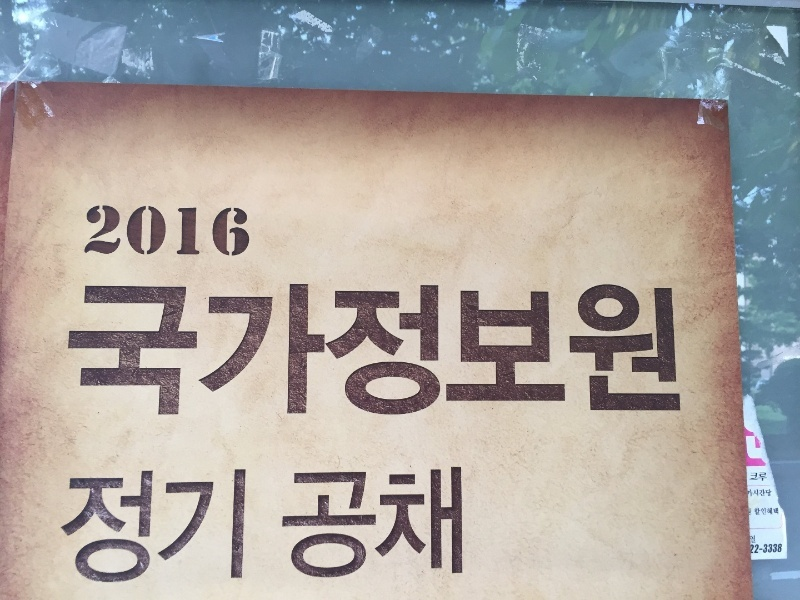text: (65, 279, 80, 422), (81, 279, 96, 422), (97, 279, 112, 422), (113, 279, 128, 422), (129, 279, 144, 422), (145, 279, 160, 422), (161, 279, 176, 422), (177, 279, 192, 422), (193, 279, 208, 422), (209, 279, 224, 422), (225, 279, 240, 422), (241, 279, 256, 422), (257, 279, 272, 422), (273, 279, 288, 422), (289, 279, 304, 422), (305, 279, 320, 422), (321, 279, 336, 422), (337, 279, 352, 422), (353, 279, 368, 422), (369, 279, 384, 422), (385, 279, 400, 422), (401, 279, 416, 422), (417, 279, 432, 422), (433, 279, 448, 422), (449, 279, 464, 422), (465, 279, 480, 422), (481, 279, 496, 422), (497, 279, 512, 422), (513, 279, 528, 422), (529, 279, 544, 422), (545, 279, 560, 422), (561, 279, 576, 422), (577, 279, 592, 422), (593, 279, 608, 422), (609, 279, 624, 422), (625, 279, 640, 422), (641, 279, 656, 422), (657, 279, 672, 422), (65, 469, 80, 588), (81, 469, 96, 588), (97, 469, 112, 588), (113, 469, 128, 588), (129, 469, 144, 588), (145, 469, 160, 588), (161, 469, 176, 588), (177, 469, 192, 588), (193, 469, 208, 588), (209, 469, 224, 588), (225, 469, 240, 588), (289, 466, 304, 582), (305, 466, 320, 582), (321, 466, 336, 582), (337, 466, 352, 582), (353, 466, 368, 582), (369, 466, 384, 582), (385, 466, 400, 582), (401, 466, 416, 582), (417, 466, 432, 582), (433, 466, 448, 582), (449, 466, 464, 582), (673, 279, 685, 422), (241, 469, 249, 588), (281, 466, 288, 582), (97, 205, 112, 259), (113, 205, 128, 259), (129, 205, 144, 259), (145, 205, 160, 259), (161, 205, 176, 259), (177, 205, 192, 259), (193, 205, 208, 259), (209, 205, 224, 259), (225, 205, 240, 259), (84, 205, 96, 259), (59, 469, 64, 588), (241, 205, 252, 259), (753, 543, 768, 554), (769, 543, 783, 554), (753, 473, 768, 482), (753, 489, 768, 498), (465, 466, 466, 582), (754, 508, 768, 516), (769, 508, 779, 516), (748, 489, 752, 498), (769, 489, 772, 498), (753, 535, 756, 544), (750, 473, 752, 482), (750, 535, 752, 544), (751, 543, 752, 554)
